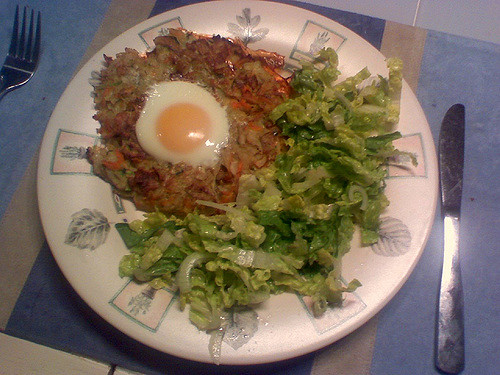chopped lettuce: (304, 92, 338, 278)
fried egg: (131, 74, 237, 177)
